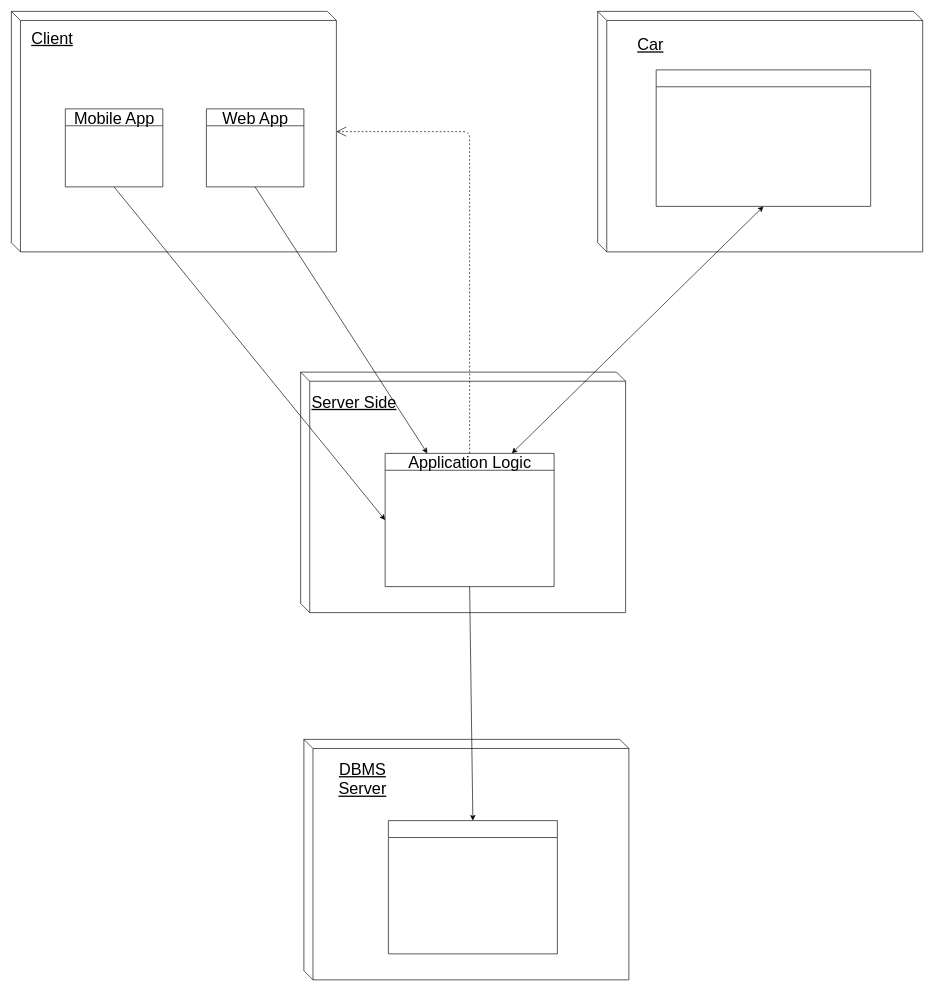
Some shapes in this 934 by 991 pixel diagram are drawn without their labels. Here are the shapes that lost their labels. From the top down, the centre of each, then its label:
point 763,137: Car System
point 472,887: Data Base
